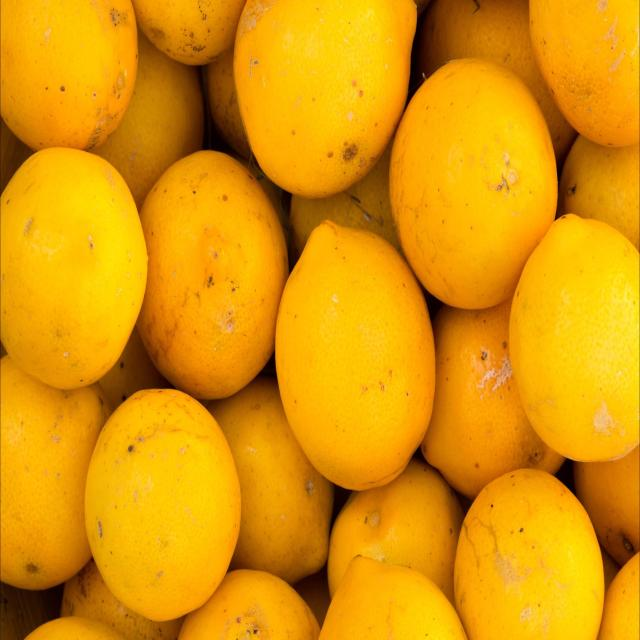lemon: (271, 216, 440, 494), (505, 212, 640, 467)
